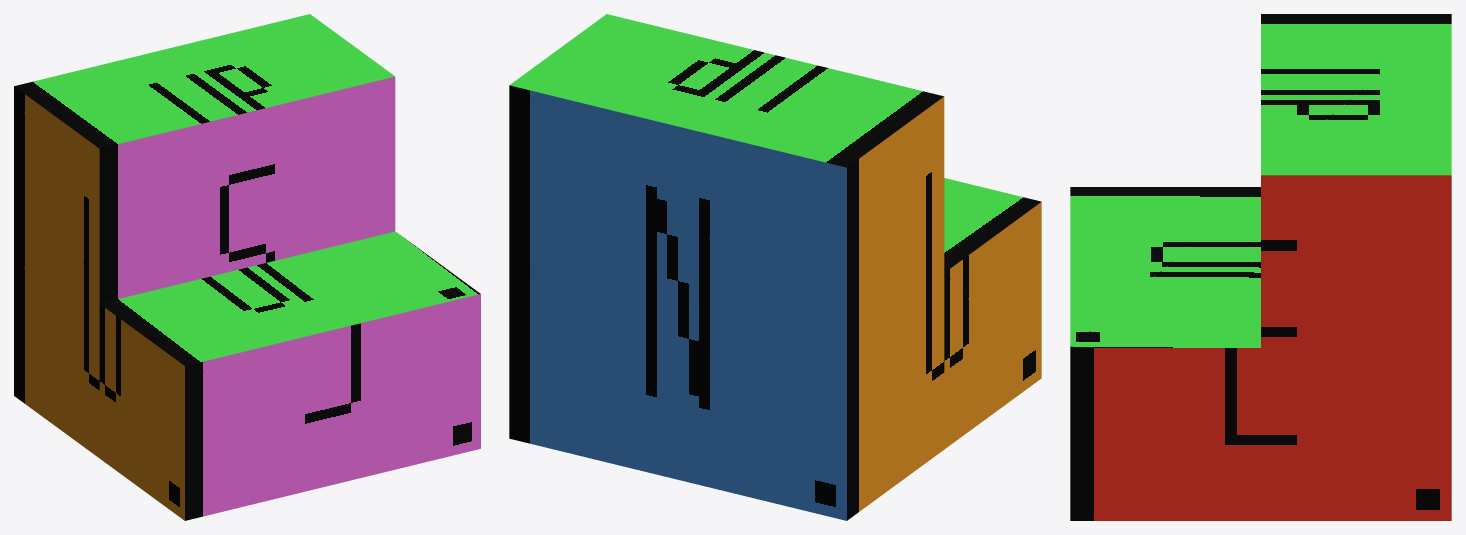
File: stairs.glb
3 renders of one model, left to right at view 1: azimuth 30°, elevation 25°; view 2: azimuth 150°, elevation 25°; view 3: azimuth 270°, elevation 25°, orthographic. The views are drawn at different scales.
Parts seen in each view (by area): view 1: stairs; view 2: stairs; view 3: stairs.
Boxes of the visible parts, x1=… form: stairs: x1=14, y1=14, x2=480, y2=520; stairs: x1=509, y1=14, x2=1041, y2=520; stairs: x1=1070, y1=14, x2=1451, y2=520.
Bounding box in the file's own units: 1 × 1 × 1.
6 materials, 6 textured.
